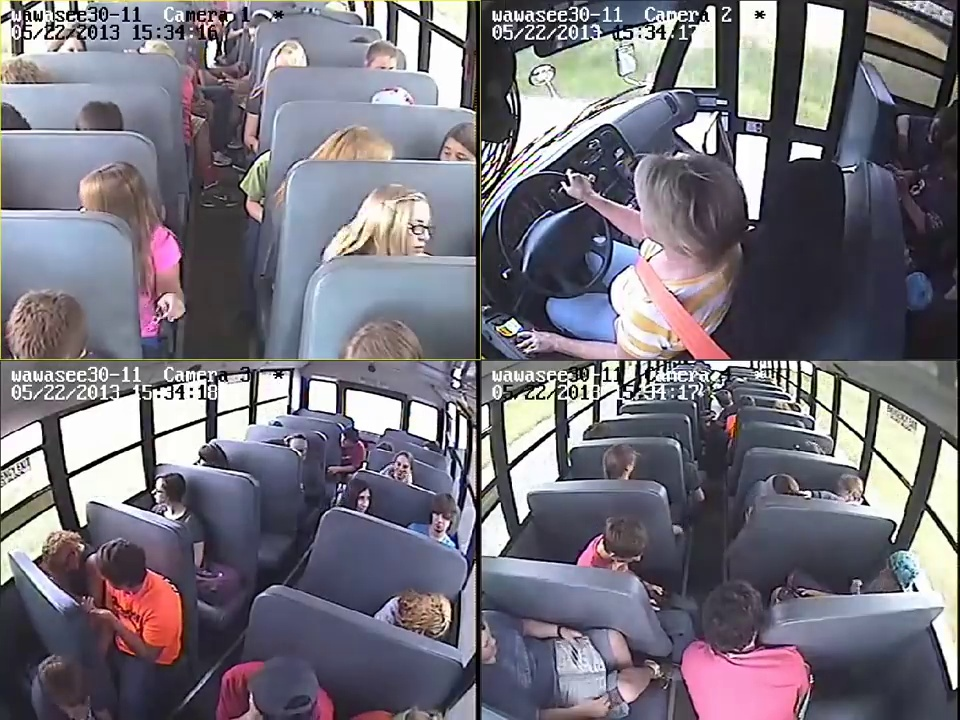face: (385, 198, 434, 258), (440, 131, 476, 160)
